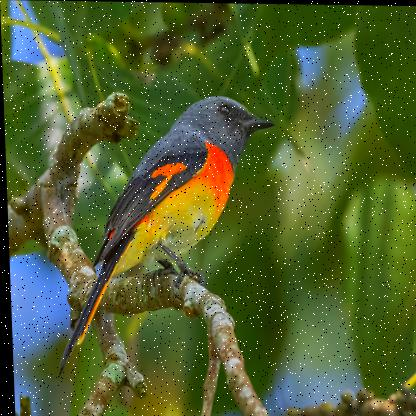Burung: (46, 93, 281, 379)
